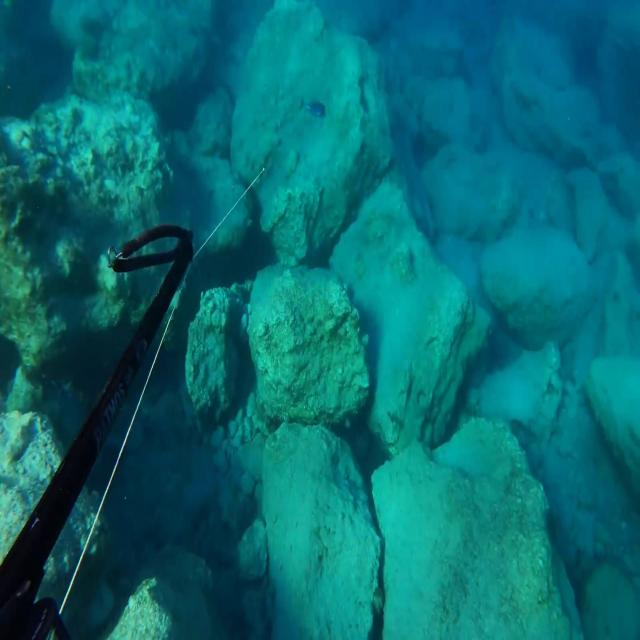Balon Baligi: (298, 96, 326, 117)
